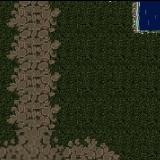Interaction: (122, 0, 144, 41), (145, 24, 160, 42)
Slow: (139, 0, 160, 28)
